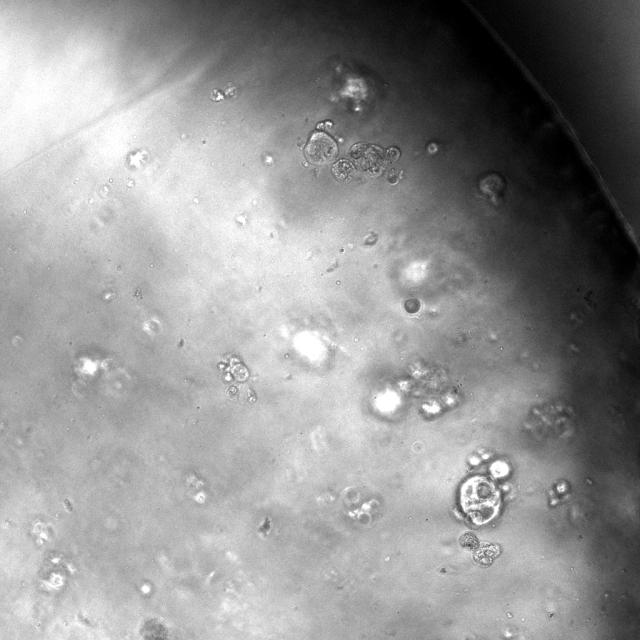organoid: (363, 356, 462, 422), (453, 449, 512, 528), (331, 59, 384, 114), (331, 142, 401, 182), (524, 398, 576, 439), (304, 120, 338, 165), (459, 531, 501, 565), (218, 355, 248, 398), (478, 172, 506, 206), (548, 478, 571, 507), (140, 619, 168, 639), (211, 84, 238, 101), (404, 298, 421, 313), (388, 170, 399, 185), (248, 388, 256, 401)
